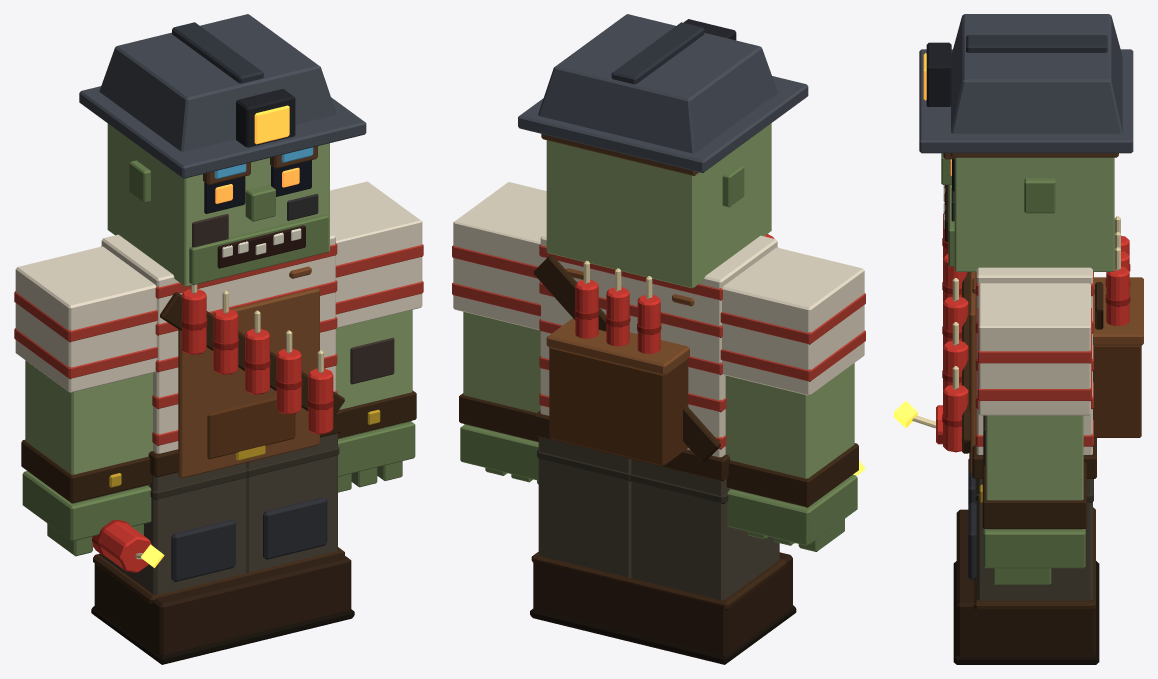
File: myw_zombiedynamiter.glb
3 renders of one model, left to right at view 1: azimuth 30°, elevation 25°; view 2: azimuth 150°, elevation 25°; view 3: azimuth 270°, elevation 25°, orthographic. The views are drawn at different scales.
Visible parts, largest first — view 1: Torso, RightArm, Hat, LeftArm, Head, RightLeg, LeftLeg, Dynamite; view 2: RightArm, Torso, Hat, Head, RightLeg, LeftArm, LeftLeg; view 3: LeftArm, Hat, Head, Torso, LeftLeg, RightLeg, Dynamite, Spark.
Part boxes in pixels (x1=…): Torso: x1=101, y1=232, x2=344, y2=478; RightArm: x1=14, y1=246, x2=157, y2=556; Hat: x1=79, y1=14, x2=366, y2=184; LeftArm: x1=330, y1=181, x2=423, y2=492; Head: x1=107, y1=123, x2=329, y2=286; RightLeg: x1=91, y1=463, x2=261, y2=664; LeftLeg: x1=244, y1=433, x2=354, y2=642; Dynamite: x1=92, y1=519, x2=151, y2=572; RightArm: x1=720, y1=247, x2=865, y2=551; Torso: x1=533, y1=233, x2=777, y2=481; Hat: x1=518, y1=14, x2=808, y2=175; Head: x1=546, y1=123, x2=771, y2=288; RightLeg: x1=623, y1=459, x2=796, y2=664; LeftArm: x1=452, y1=182, x2=546, y2=484; LeftLeg: x1=530, y1=437, x2=633, y2=642; LeftArm: x1=977, y1=283, x2=1091, y2=584; Hat: x1=919, y1=14, x2=1133, y2=159; Head: x1=941, y1=153, x2=1114, y2=271; Torso: x1=942, y1=214, x2=1143, y2=478; LeftLeg: x1=953, y1=479, x2=1099, y2=664; RightLeg: x1=953, y1=459, x2=1099, y2=608; Dynamite: x1=912, y1=405, x2=942, y2=444; Spark: x1=894, y1=401, x2=917, y2=427.
Size of the model in its own units: 5.45 by 8.28 by 3.24.
